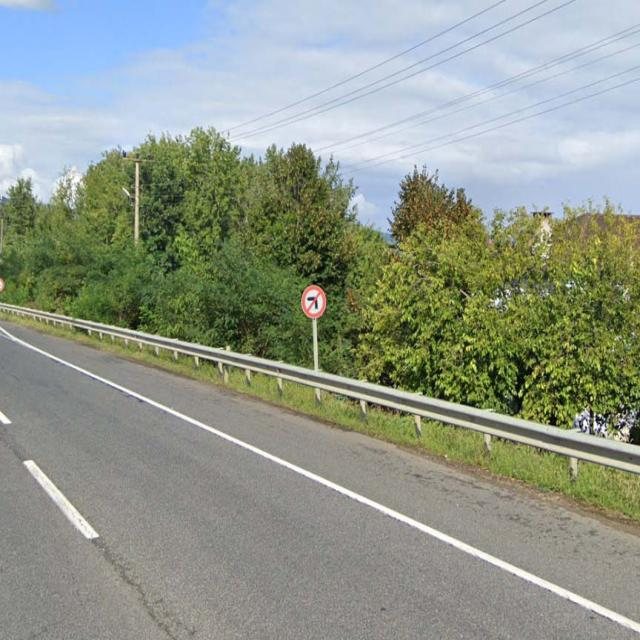soladonulmez: (302, 286, 324, 316)
